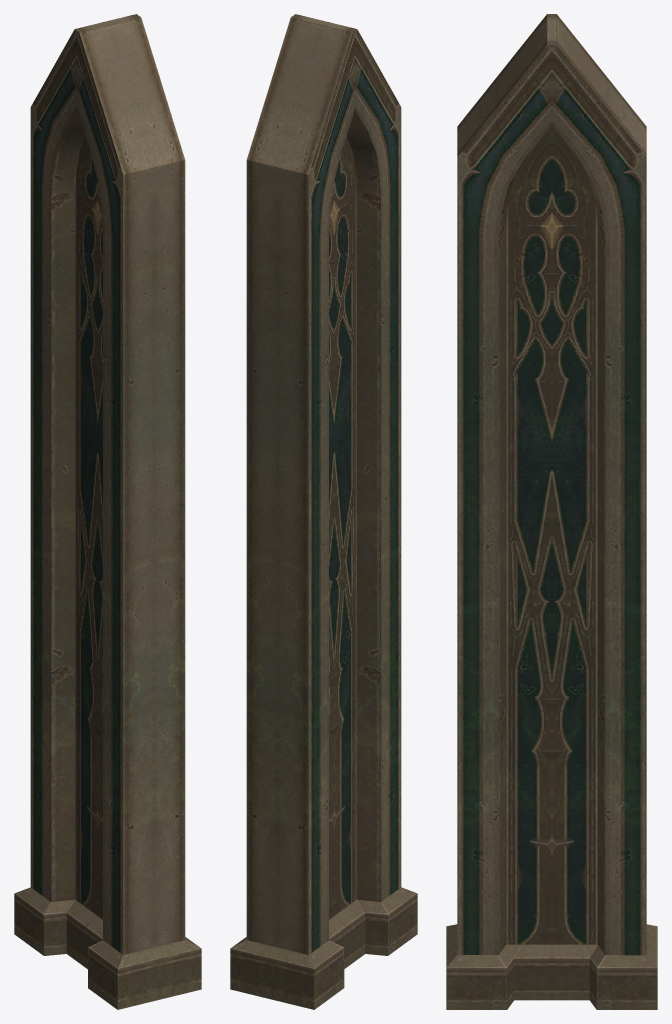
File: bg_rad_kamen_wall02_sm_jjh.obj
3 renders of one model, left to right at view 1: azimuth 30°, elevation 25°; view 2: azimuth 150°, elevation 25°; view 3: azimuth 270°, elevation 25°, orthographic. The views are drawn at different scales.
Parts seen in each view (by area): view 1: bg_rad_kamen_wall02_sm_jjh_0; view 2: bg_rad_kamen_wall02_sm_jjh_0; view 3: bg_rad_kamen_wall02_sm_jjh_0.
Part boxes in pixels (x1,y1,x2,y2): bg_rad_kamen_wall02_sm_jjh_0: (14, 14, 201, 1009); bg_rad_kamen_wall02_sm_jjh_0: (230, 14, 417, 1009); bg_rad_kamen_wall02_sm_jjh_0: (446, 14, 657, 1009).
Size of the model in its own units: 0.2277 by 2.43 by 0.4847.
Materials: 1 (1 with a texture image).
